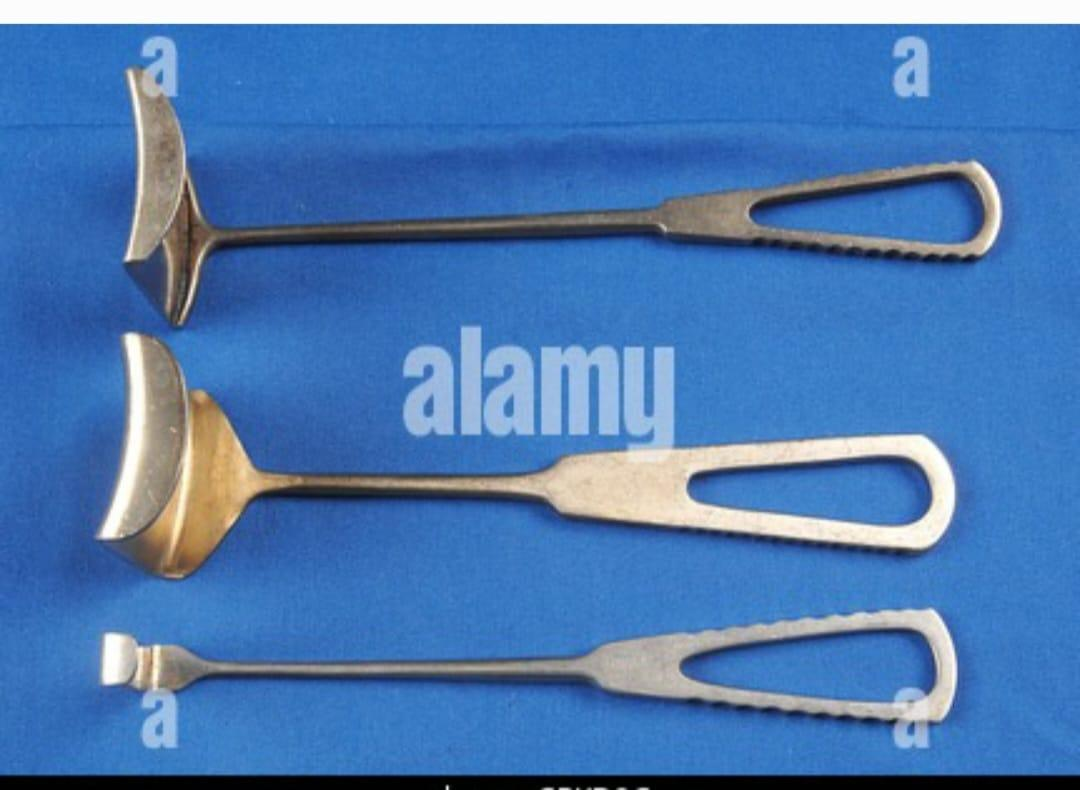Morris Retractor: (101, 316, 960, 573), (106, 68, 1013, 304)
